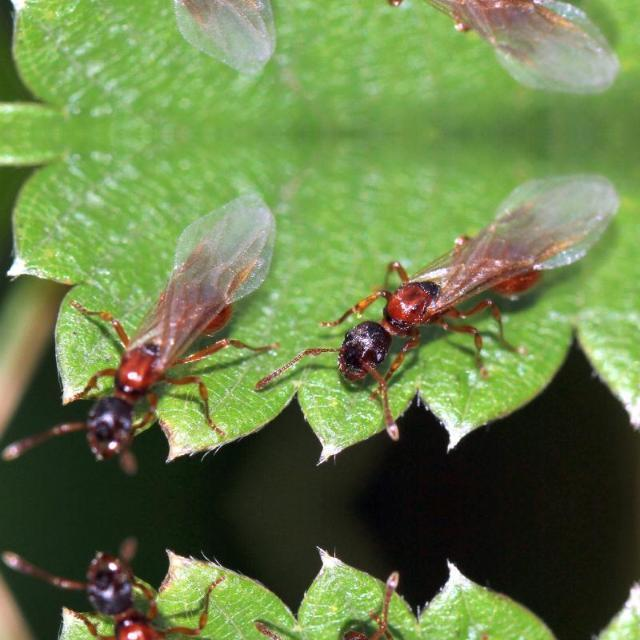Myrmica: (314, 172, 564, 416), (39, 210, 264, 462), (314, 0, 564, 94), (38, 548, 264, 640), (38, 0, 264, 56)
